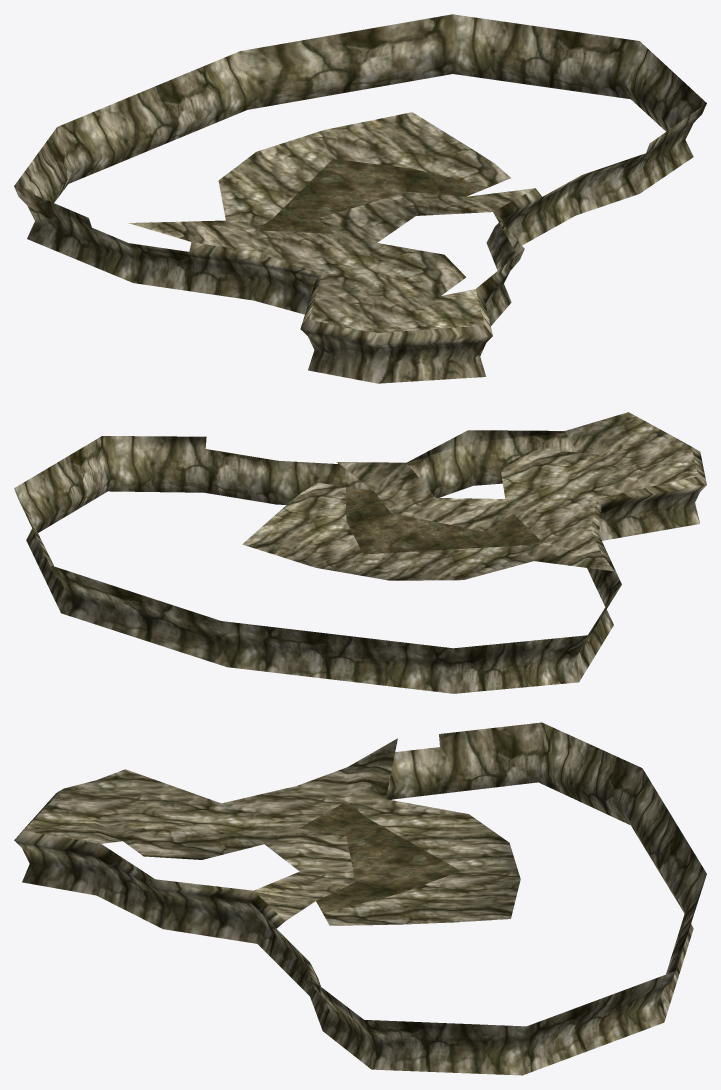
The model's file is CB_NEWPLAYSURFACE_CB_PLAYSURFACE27.fbx.
3 views of the same model, one above another, from view 1: azimuth 30°, elevation 25°; view 2: azimuth 150°, elevation 25°; view 3: azimuth 270°, elevation 25° (orthographic). The views are drawn at different scales.
Parts seen in each view (by area): view 1: CB_NEWPLAYSURFACE_CB_PLAYSURFACE27; view 2: CB_NEWPLAYSURFACE_CB_PLAYSURFACE27; view 3: CB_NEWPLAYSURFACE_CB_PLAYSURFACE27.
Part boxes in pixels (x1,y1,x2,y2): CB_NEWPLAYSURFACE_CB_PLAYSURFACE27: [14, 14, 706, 383]; CB_NEWPLAYSURFACE_CB_PLAYSURFACE27: [14, 412, 706, 693]; CB_NEWPLAYSURFACE_CB_PLAYSURFACE27: [14, 722, 706, 1075].
Size of the model in its own units: 323119 by 29601 by 311380.
3 materials, 3 textured.
